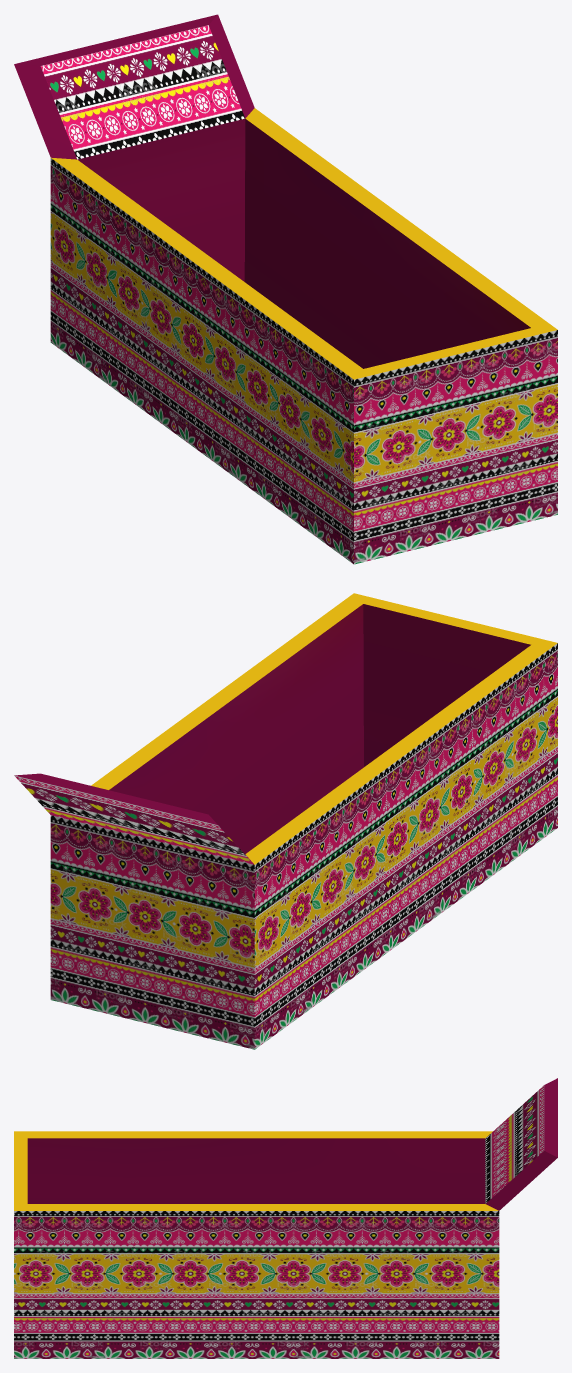
The model's file is Truck Container.fbx.
3 renders of one model, top to bottom at view 1: azimuth 30°, elevation 25°; view 2: azimuth 150°, elevation 25°; view 3: azimuth 270°, elevation 25°, orthographic. The views are drawn at different scales.
Parts seen in each view (by area): view 1: Truck Cantainer; view 2: Truck Cantainer; view 3: Truck Cantainer.
Part boxes in pixels (left/top/right/bottom): Truck Cantainer: left=14, top=14, right=557, bottom=564; Truck Cantainer: left=14, top=593, right=557, bottom=1049; Truck Cantainer: left=14, top=1078, right=557, bottom=1358.
Bounding box in the file's own units: 3.21 × 3.78 × 9.25.
